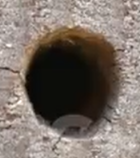Hole: (8, 19, 131, 149)
